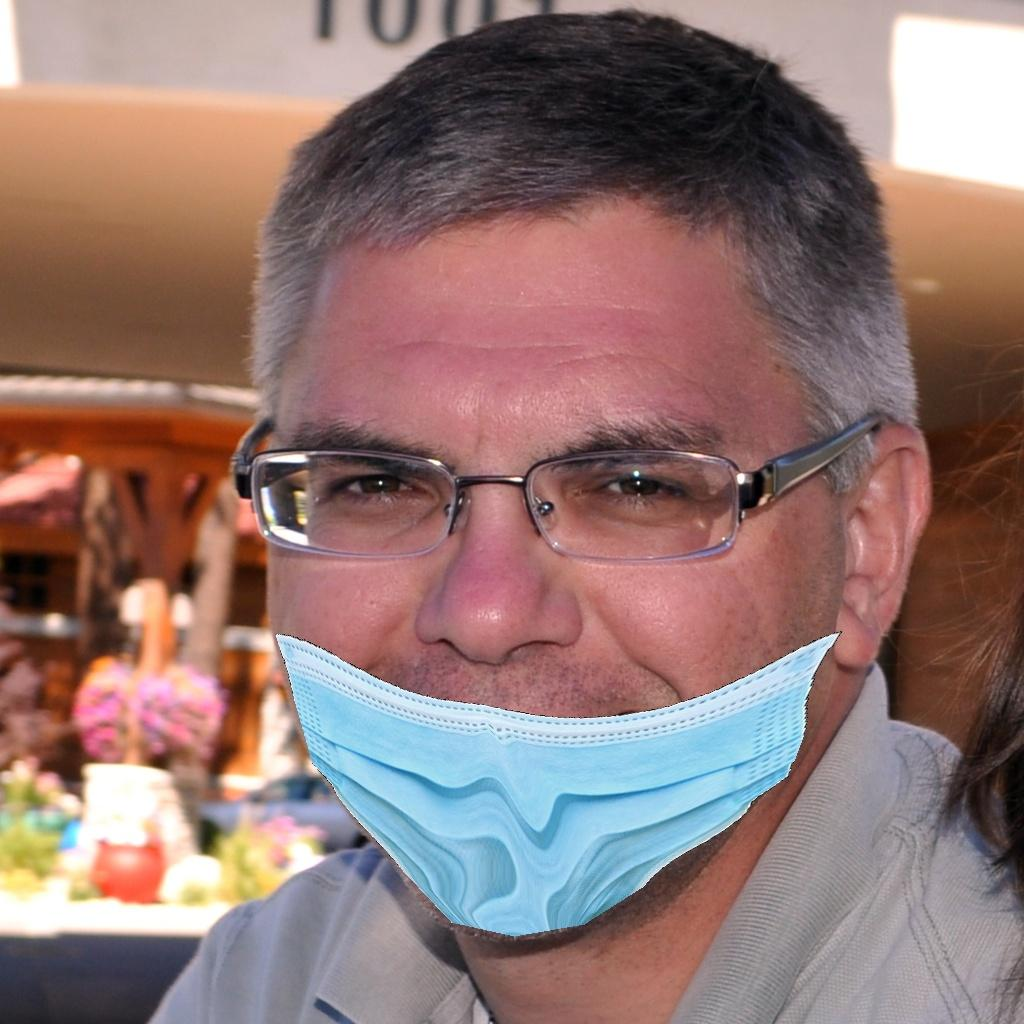Máscara Incorreta: (233, 293, 900, 933)
